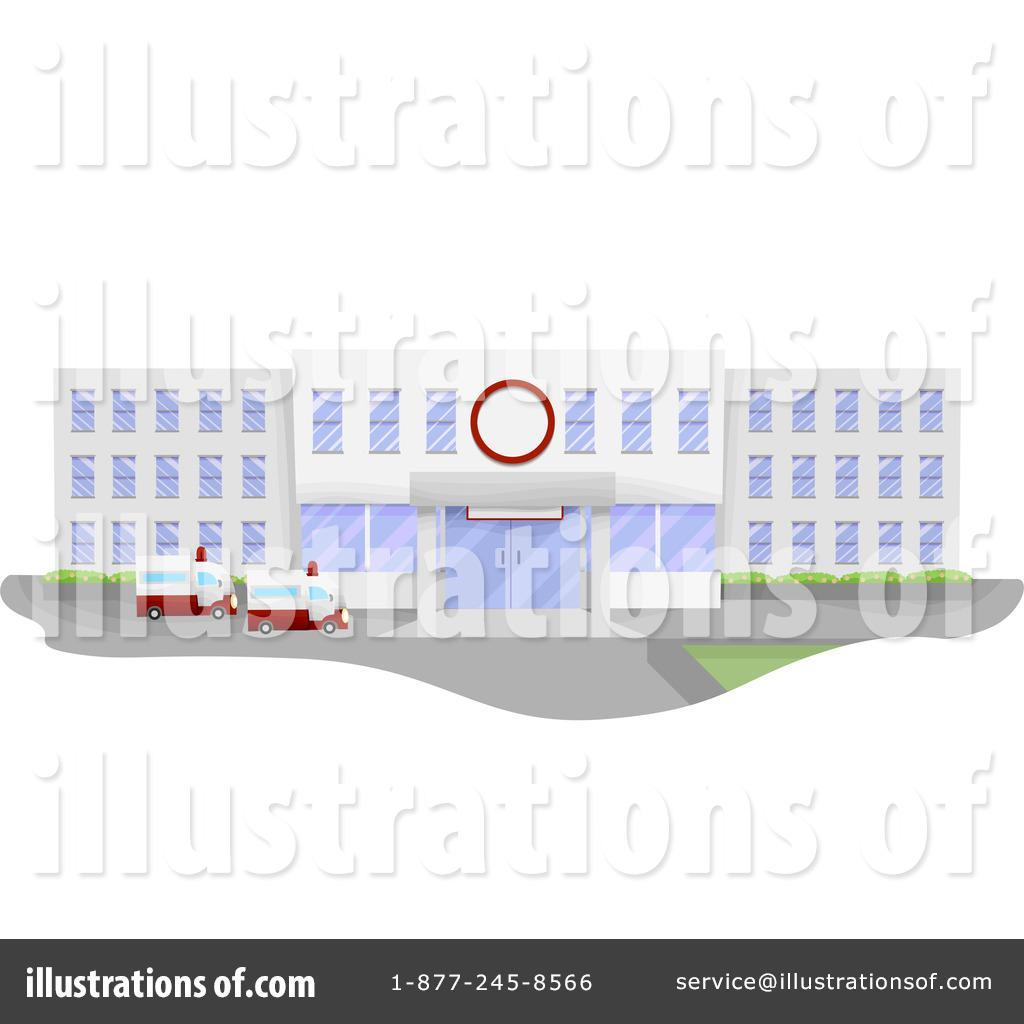car: (128, 542, 240, 625), (245, 563, 356, 641)
